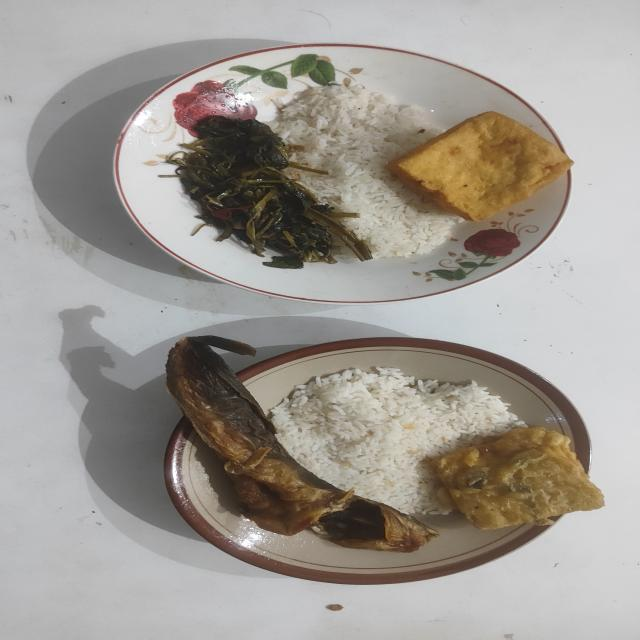nasi_putih: (270, 366, 527, 514), (268, 85, 461, 258)
tahu_goreng: (388, 111, 573, 222)
tumis_kangkung: (166, 116, 372, 268)
